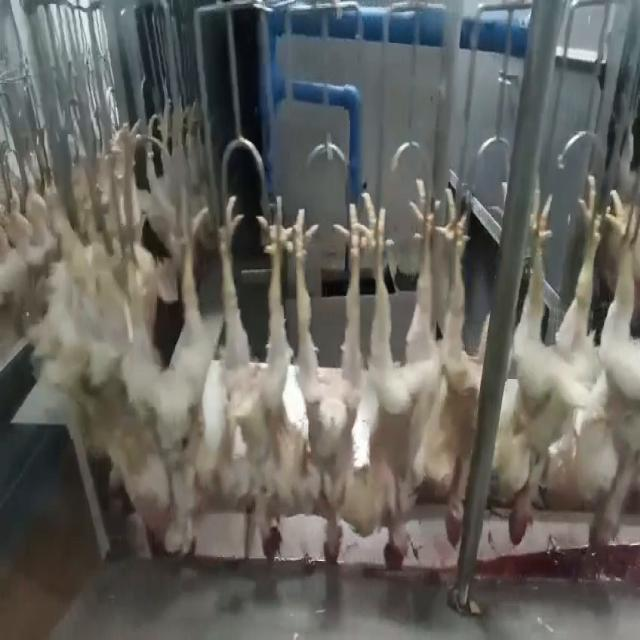chicken: (496, 166, 614, 552), (349, 170, 434, 581), (208, 187, 294, 566), (130, 192, 214, 566), (286, 194, 362, 567), (429, 181, 502, 551), (584, 184, 639, 566)
